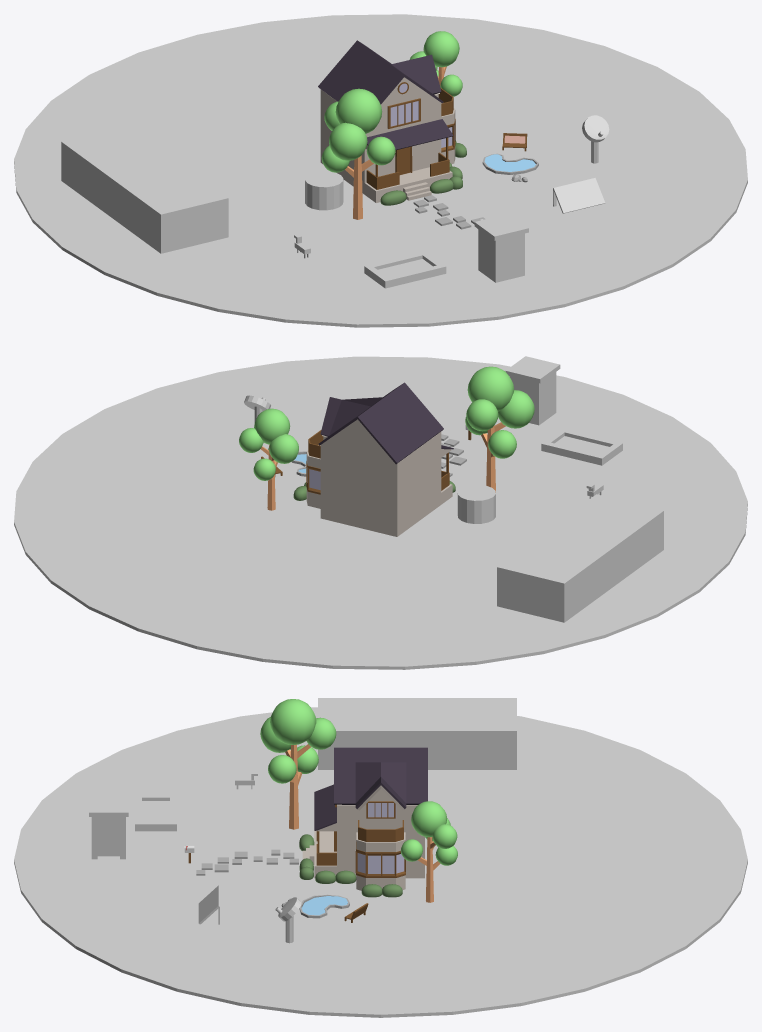
File: bio_scene_2.glb
The picture shows the model from 3 angles, top to bottom: view 1: azimuth 30°, elevation 25°; view 2: azimuth 150°, elevation 25°; view 3: azimuth 270°, elevation 25°; orthographic projection.
Visible parts, largest first — view 1: Ground, Container, Glas.Erker, Dach.oben, TradingHouse, Gardenbed, Sphere.003, WaterTank, Solarpanel, Dach.unten, Sphere, Sphere.013 (+6 smaller); view 2: Ground, Container, Glas.Erker, Dach.oben, TradingHouse, Gardenbed, Sphere.003, WaterTank, Sphere, Sphere.013, Sphere.001, Sphere.010 (+2 smaller); view 3: Ground, Container, Dach.oben, Glas.Erker, TradingHouse, Sphere.003, Gardenbed, Sphere.013, Dach.unten, Cube.004, Cylinder, Sphere.001 (+7 smaller).
Boxes of the visible parts, x1,y1,x2,y2 form: Ground: (14, 14, 747, 327); Container: (61, 125, 228, 253); Glas.Erker: (320, 77, 455, 202); Dach.oben: (318, 40, 443, 104); TradingHouse: (474, 213, 528, 282); Gardenbed: (364, 251, 446, 288); Sphere.003: (335, 88, 382, 133); WaterTank: (305, 171, 343, 210); Solarpanel: (553, 178, 605, 213); Dach.unten: (367, 119, 453, 150); Sphere: (329, 122, 367, 160); Sphere.013: (423, 31, 459, 67); Ground: (14, 356, 747, 669); Container: (497, 494, 663, 622); Glas.Erker: (306, 419, 452, 536); Dach.oben: (318, 382, 443, 464); TradingHouse: (505, 356, 560, 425); Gardenbed: (541, 428, 622, 465); Sphere.003: (467, 366, 514, 411); WaterTank: (457, 484, 495, 523); Sphere: (498, 390, 534, 428); Sphere.013: (254, 408, 290, 444); Sphere.001: (466, 399, 498, 431); Sphere.010: (269, 434, 298, 463); Ground: (14, 707, 747, 1017); Container: (318, 698, 516, 769); Dach.oben: (334, 747, 427, 808); Glas.Erker: (314, 785, 424, 890); TradingHouse: (89, 796, 128, 859); Sphere.003: (270, 699, 316, 744); Gardenbed: (135, 794, 176, 831); Sphere.013: (411, 801, 447, 837); Dach.unten: (314, 784, 336, 830); Cube.004: (357, 853, 404, 873); Cylinder: (285, 744, 310, 829); Sphere.001: (306, 717, 336, 749).
Bounding box in the file's own units: 50.9 × 9.98 × 50.9.
